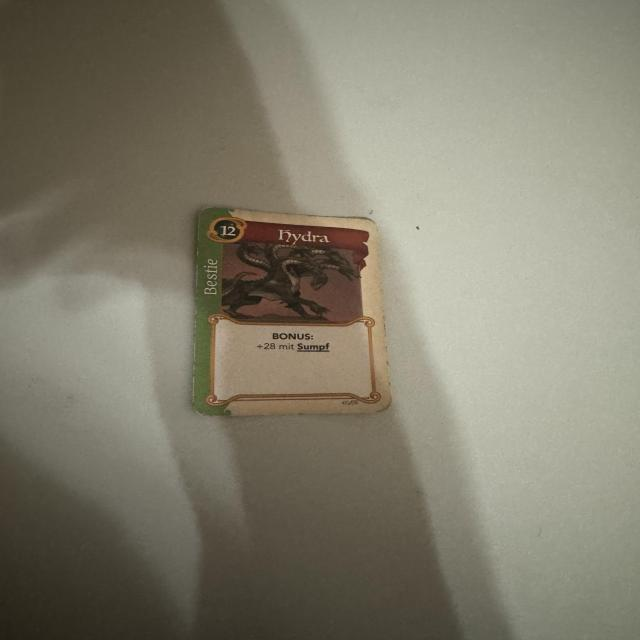Hydra: (187, 207, 395, 415)
